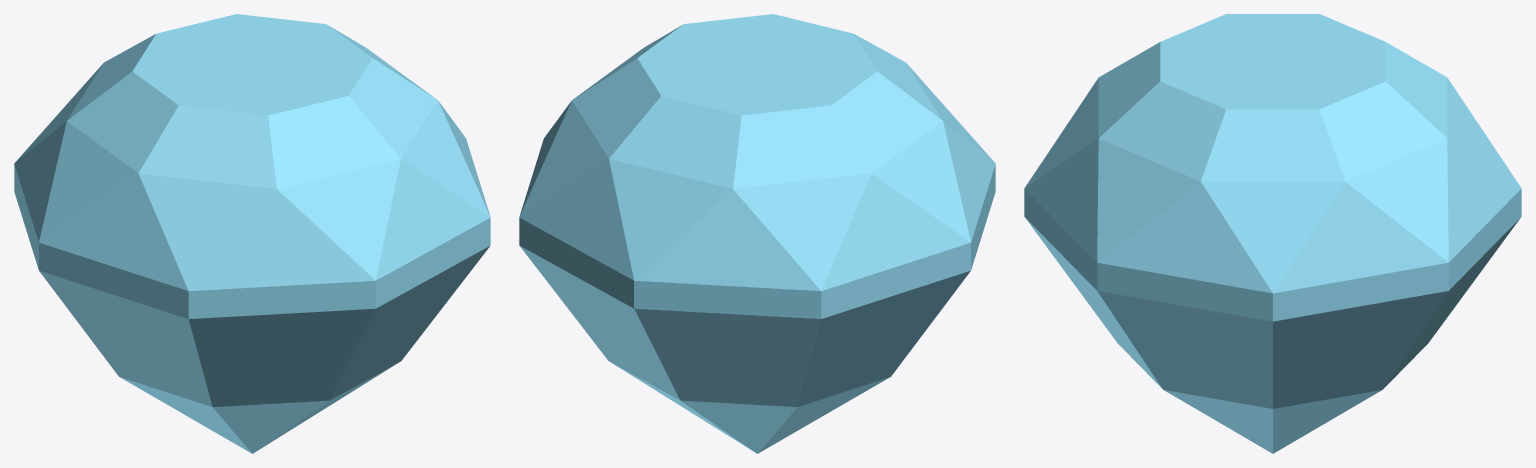
File: SandGem.glb
3 renders of one model, left to right at view 1: azimuth 30°, elevation 25°; view 2: azimuth 150°, elevation 25°; view 3: azimuth 270°, elevation 25°, orthographic.
Parts seen in each view (by area): view 1: Gem; view 2: Gem; view 3: Gem.
Part boxes in pixels (left/top/right/bottom): Gem: left=14, top=14, right=490, bottom=453; Gem: left=519, top=14, right=995, bottom=453; Gem: left=1024, top=14, right=1521, bottom=453.
Size of the model in its own units: 2.24 by 1.95 by 2.24.
